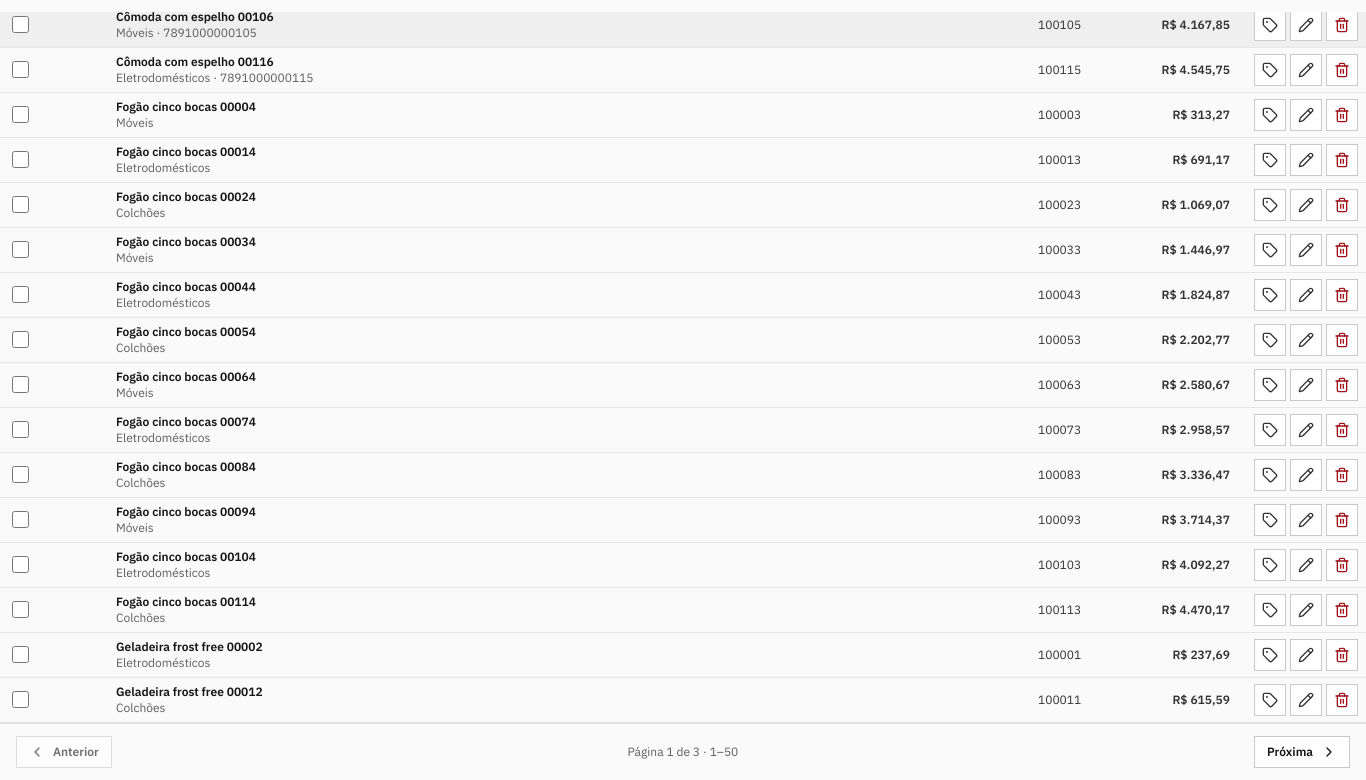
navegacao entre paginas › mostra a pagina seguinte do resultado em ordem de nome, na tabela e nos cartoes
Expected: the button "Anterior" is disabled, [16, 736, 112, 768]
Click the button "Próxima" at (1302, 752), box [1254, 736, 1350, 768]
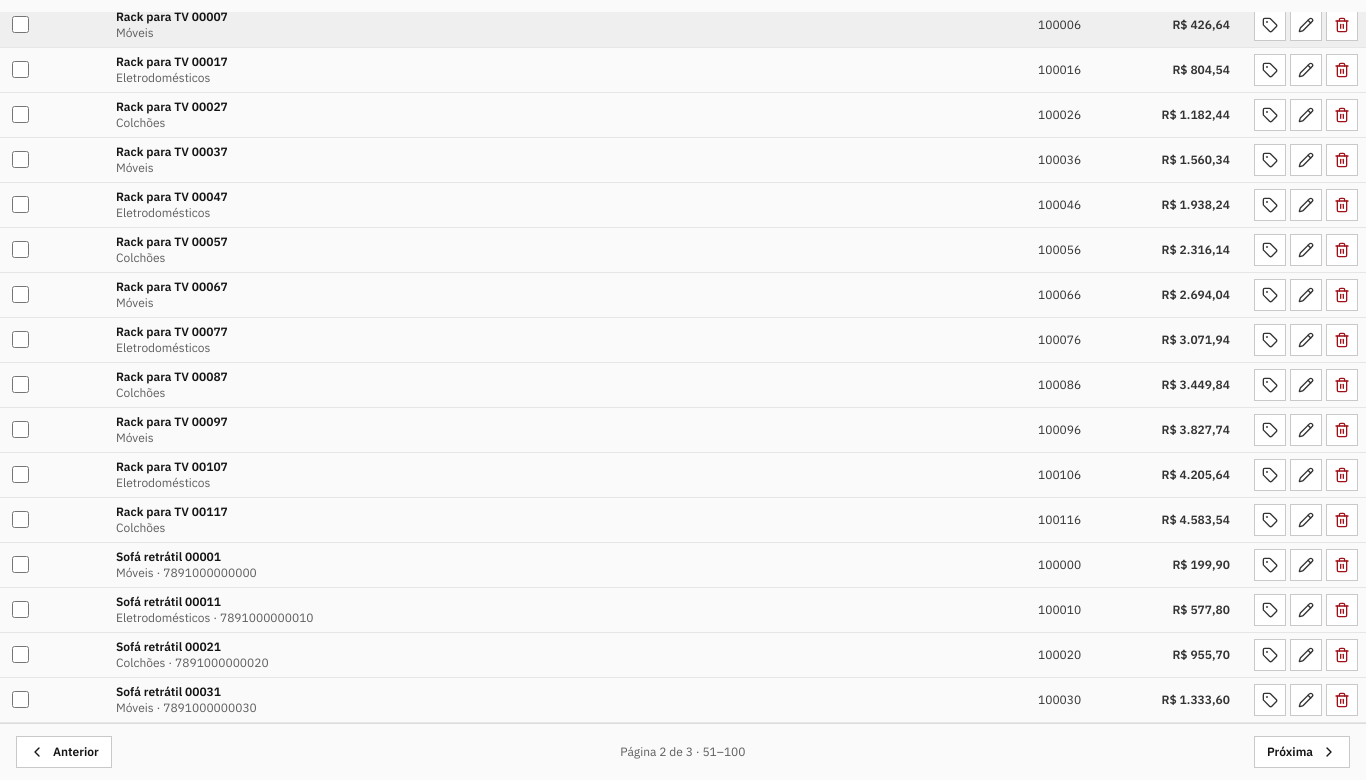
Now the element showing "Página 2 de 3 · 51–100" is shown, box [620, 744, 746, 760]
